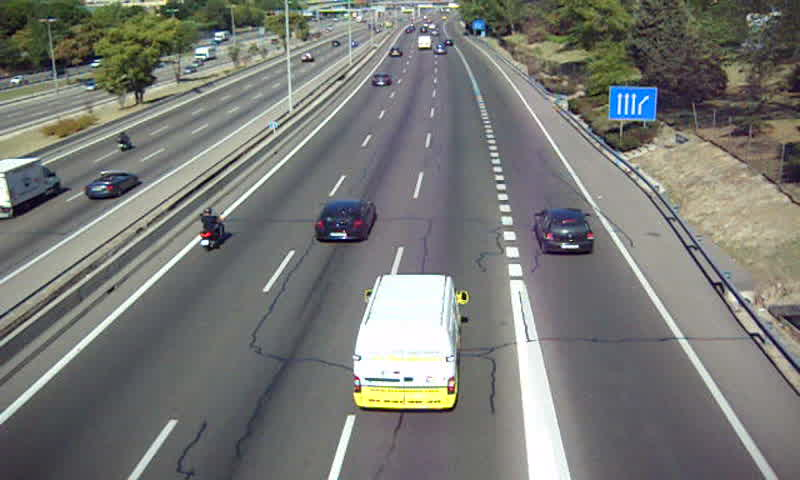car: (313, 198, 376, 245), (534, 209, 595, 253), (370, 72, 392, 89)
motorcycle: (197, 207, 227, 254)
van: (352, 274, 461, 411)
